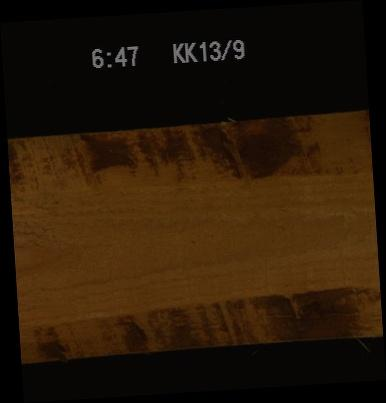wave: (8, 121, 369, 191), (19, 289, 380, 352)
